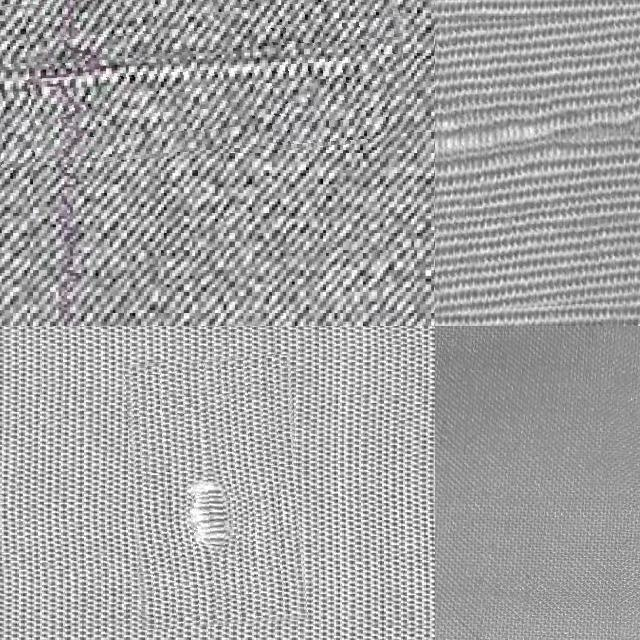stains: (435, 16, 640, 320), (128, 357, 302, 627)
